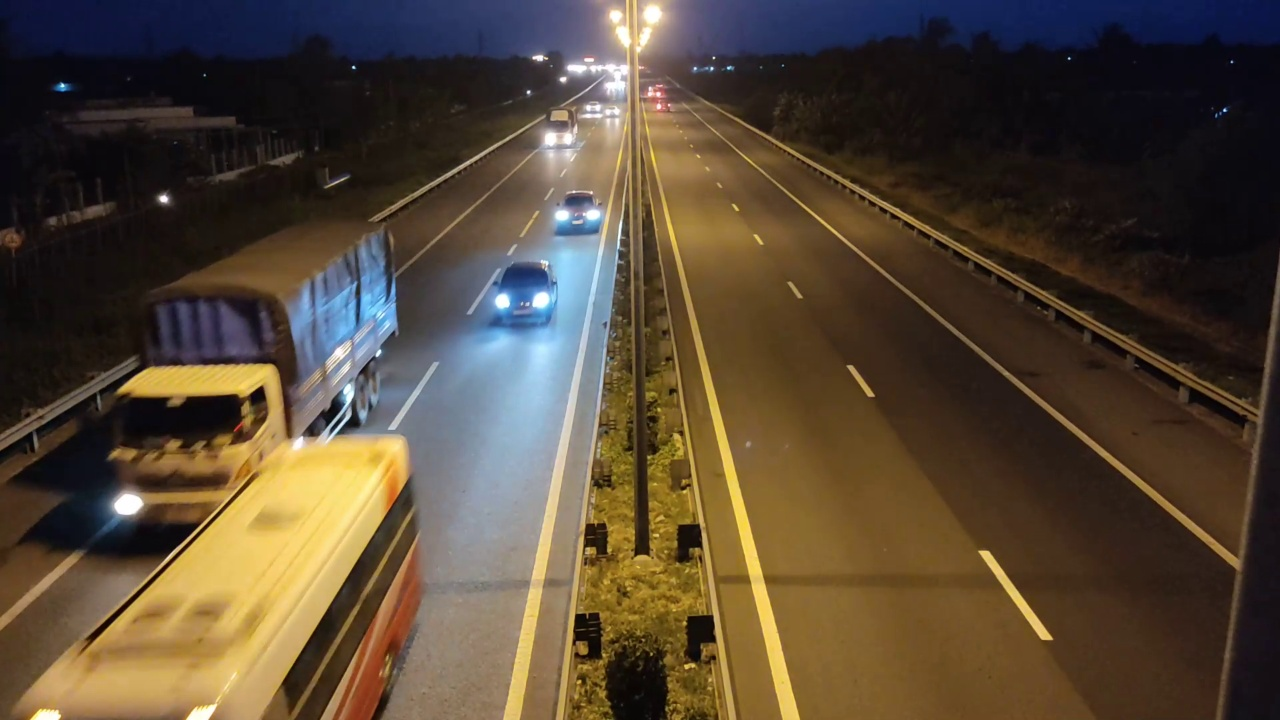car: (489, 260, 559, 328), (553, 189, 603, 235)
truck: (102, 215, 399, 535)
